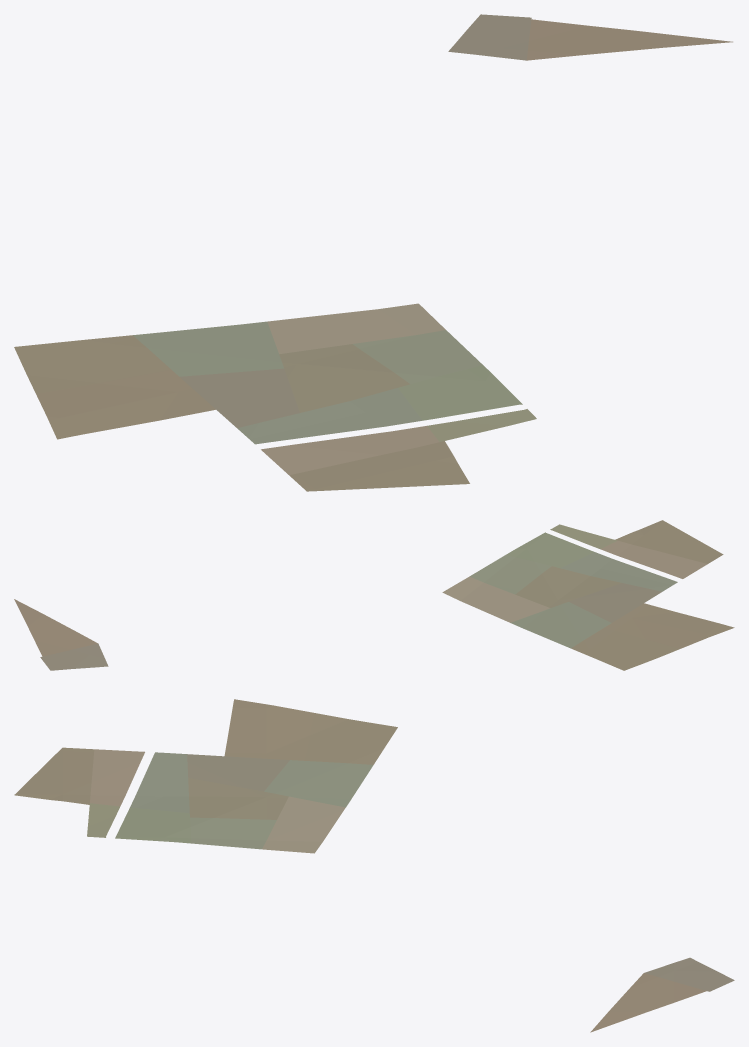
File: farm_6_11_soil.glb
3 renders of one model, top to bottom at view 1: azimuth 30°, elevation 25°; view 2: azimuth 150°, elevation 25°; view 3: azimuth 270°, elevation 25°, orthographic. The views are drawn at different scales.
Parts seen in each view (by area): view 1: geometry_0; view 2: geometry_0; view 3: geometry_0.
Boxes of the visible parts, <box> form: geometry_0: <box>14,14,732,491</box>; geometry_0: <box>14,520,734,670</box>; geometry_0: <box>14,699,734,1032</box>.
Size of the model in its own units: 617 by 5.21 by 566.
